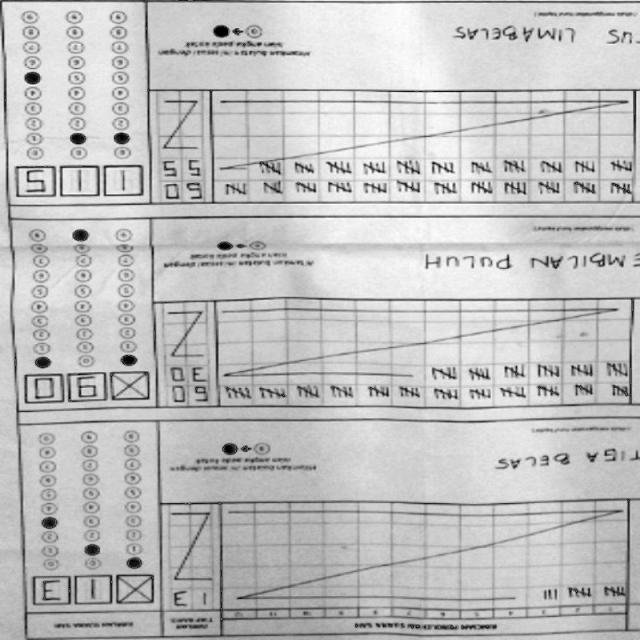Suara: (10, 163, 152, 204), (28, 374, 154, 410), (28, 576, 161, 605)
